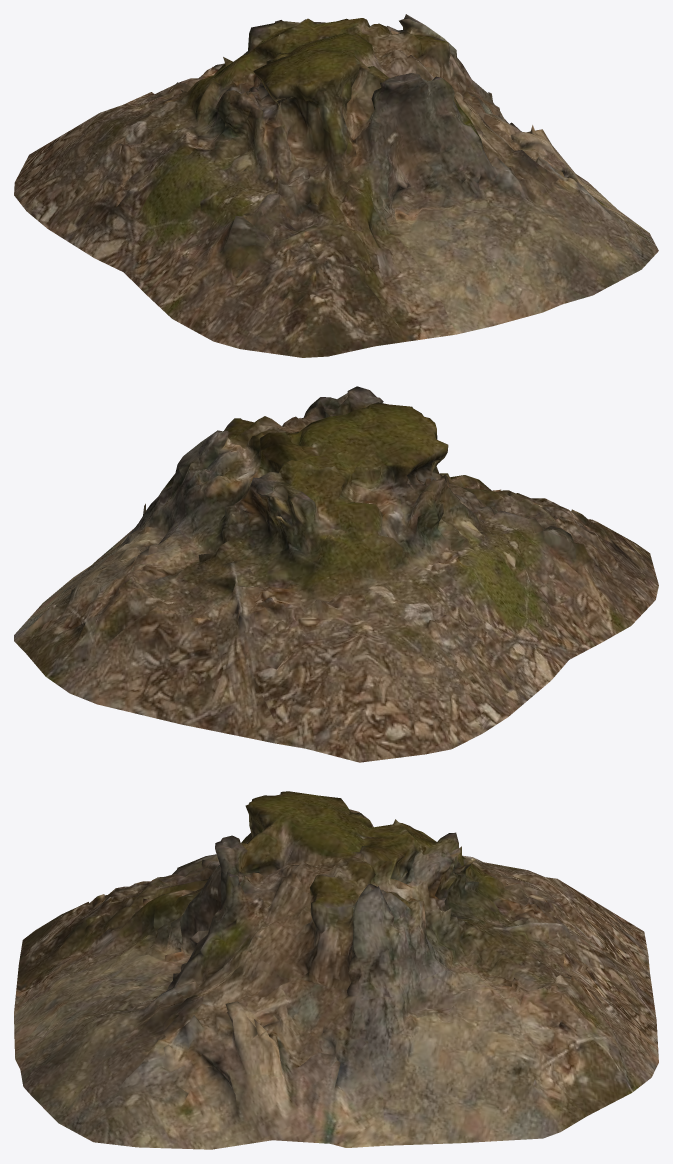
Rendered from stump.glb.
3 views of the same model, one above another, from view 1: azimuth 30°, elevation 25°; view 2: azimuth 150°, elevation 25°; view 3: azimuth 270°, elevation 25° (orthographic). The views are drawn at different scales.
Parts seen in each view (by area): view 1: tree_stump_01; view 2: tree_stump_01; view 3: tree_stump_01.
Boxes of the visible parts, x1,y1,x2,y2 form: tree_stump_01: (14, 14, 658, 357); tree_stump_01: (14, 386, 658, 762); tree_stump_01: (14, 791, 658, 1149).
Bounding box in the file's own units: 1.43 × 0.57 × 1.59.
Materials: 1 (1 with a texture image).
